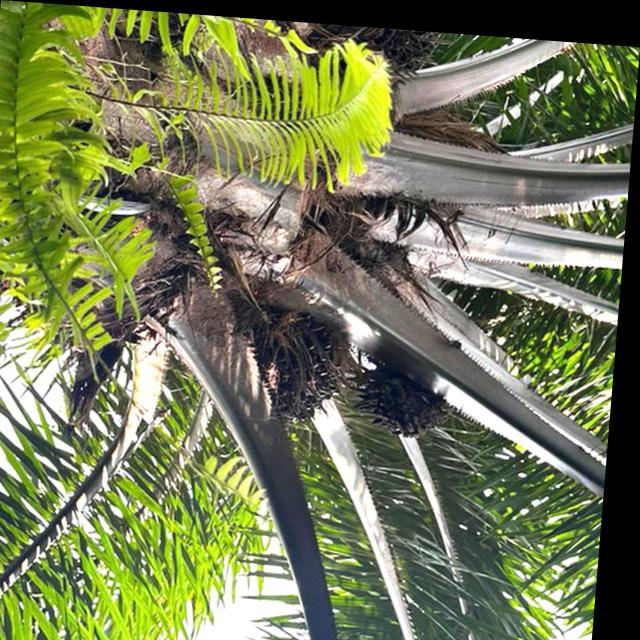ripe: (238, 289, 360, 418)
